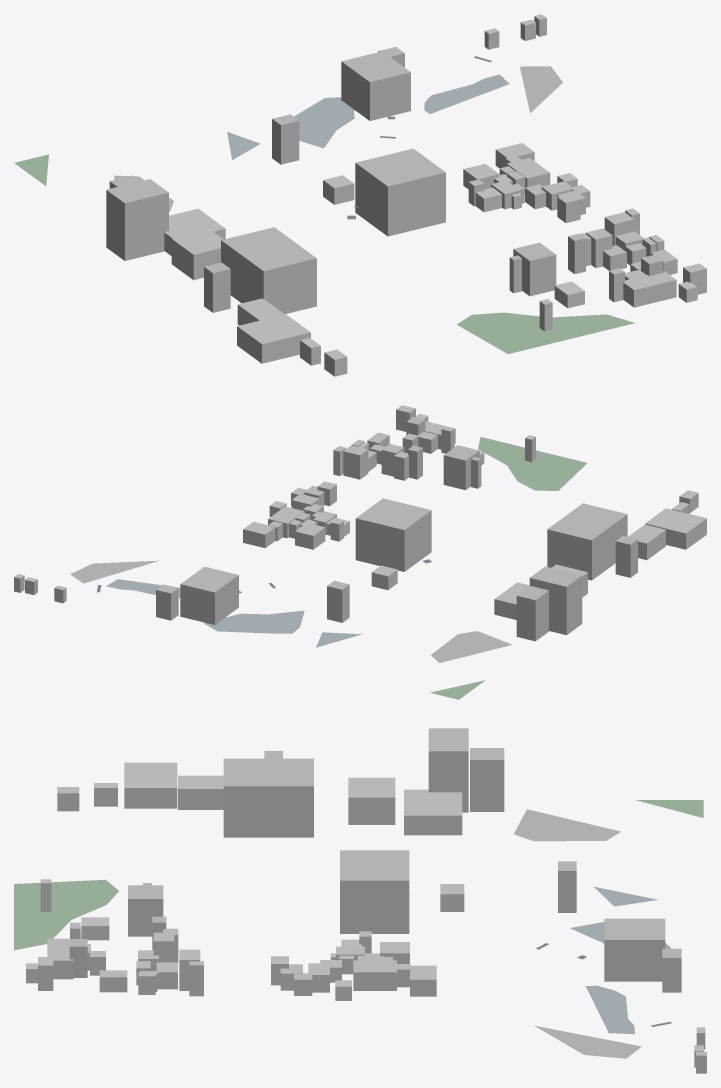
The model's file is 133_83_mid.glb.
The picture shows the model from 3 angles, top to bottom: view 1: azimuth 30°, elevation 25°; view 2: azimuth 150°, elevation 25°; view 3: azimuth 270°, elevation 25°; orthographic projection. The views are drawn at different scales.
Bounding box in the file's own units: 493 × 50.04 × 502.
